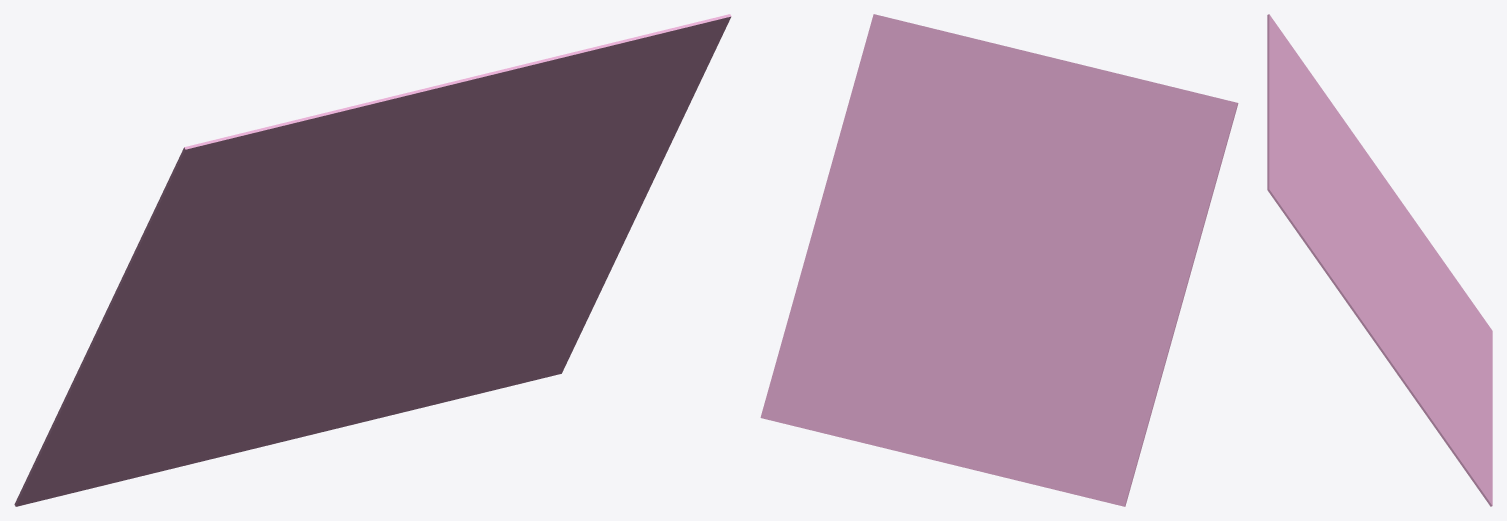
3 renders of one model, left to right at view 1: azimuth 30°, elevation 25°; view 2: azimuth 150°, elevation 25°; view 3: azimuth 270°, elevation 25°, orthographic. The views are drawn at different scales.
Visible parts, largest first — view 1: Plane.001; view 2: Plane.001; view 3: Plane.001.
Boxes of the visible parts, x1,y1,x2,y2 form: Plane.001: (14, 14, 731, 506); Plane.001: (760, 14, 1238, 506); Plane.001: (1267, 14, 1492, 506).
Bounding box in the file's own units: 5.28 × 4.46 × 2.87.
